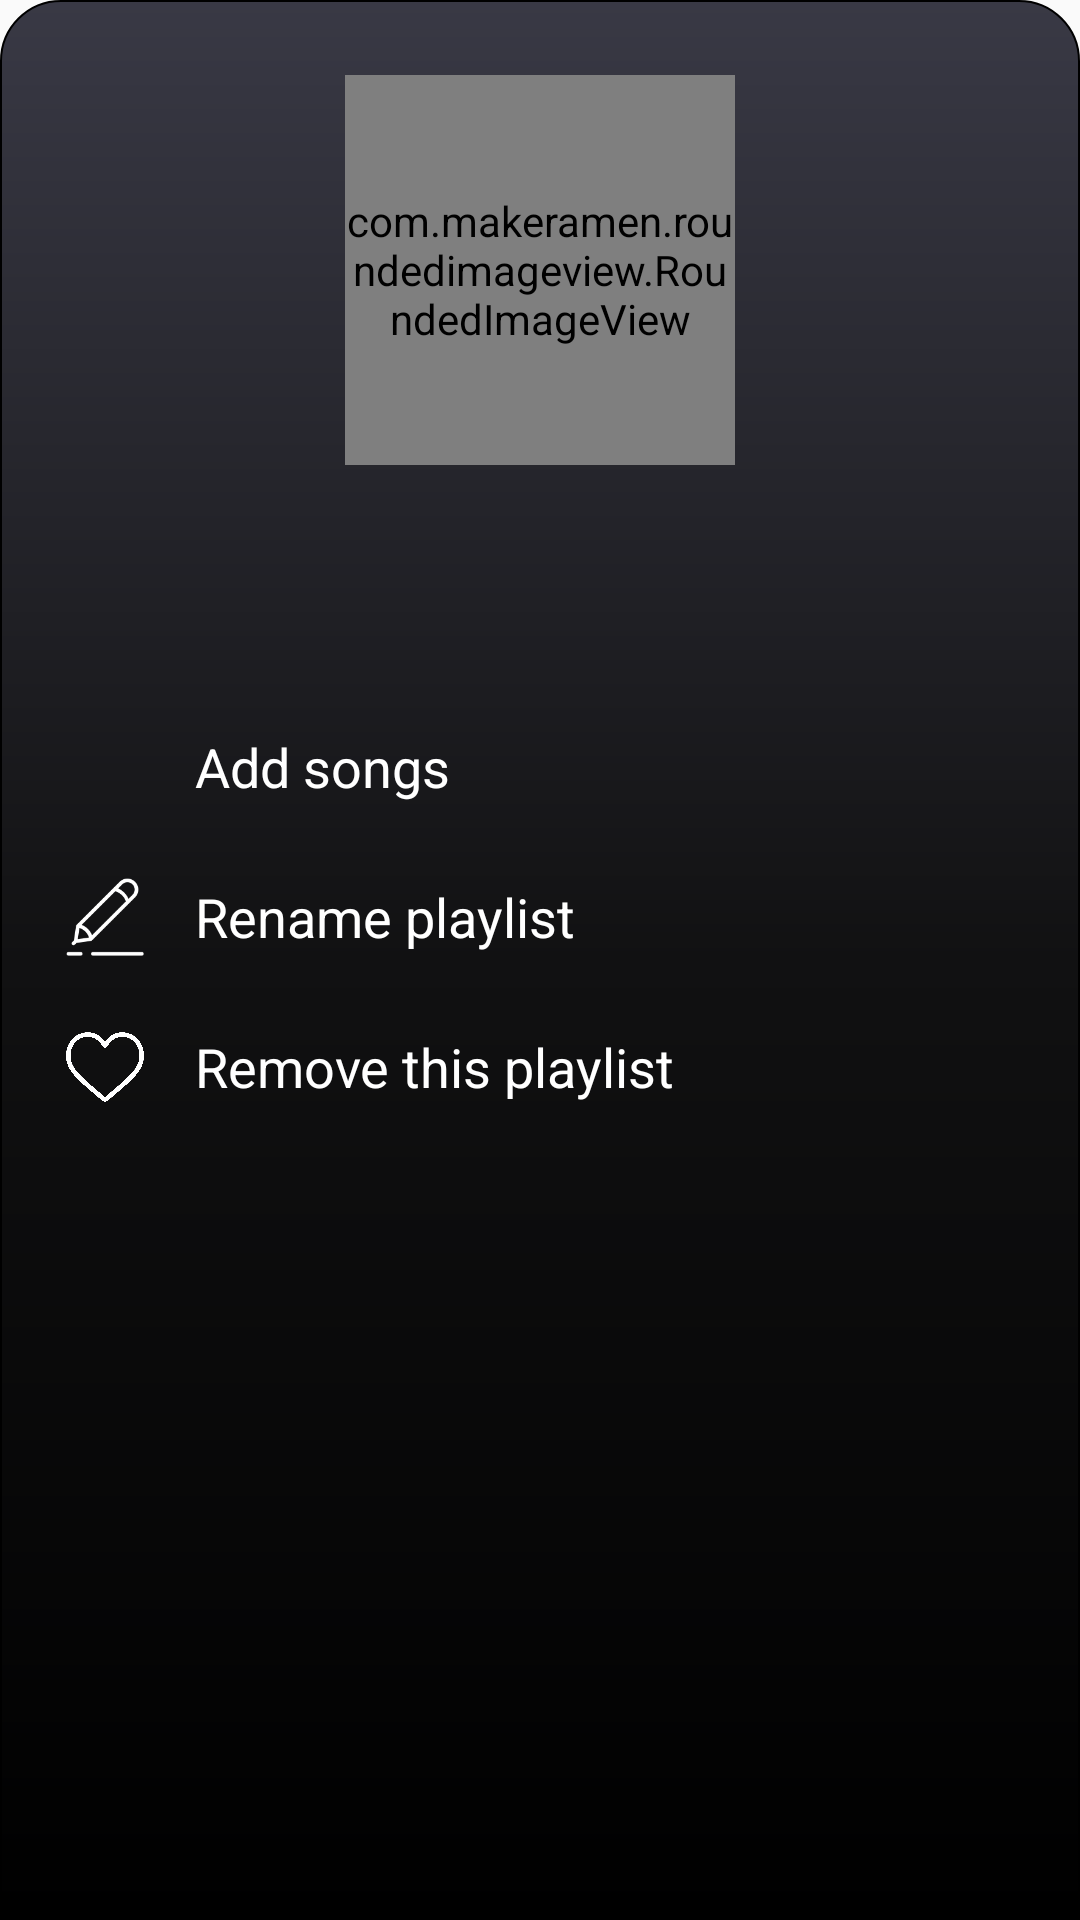

Point at icon controls on the screen. Image size 1080px x 1920px, points as (x=x, y=y).
unfavorite heart: (x=105, y=1067)
